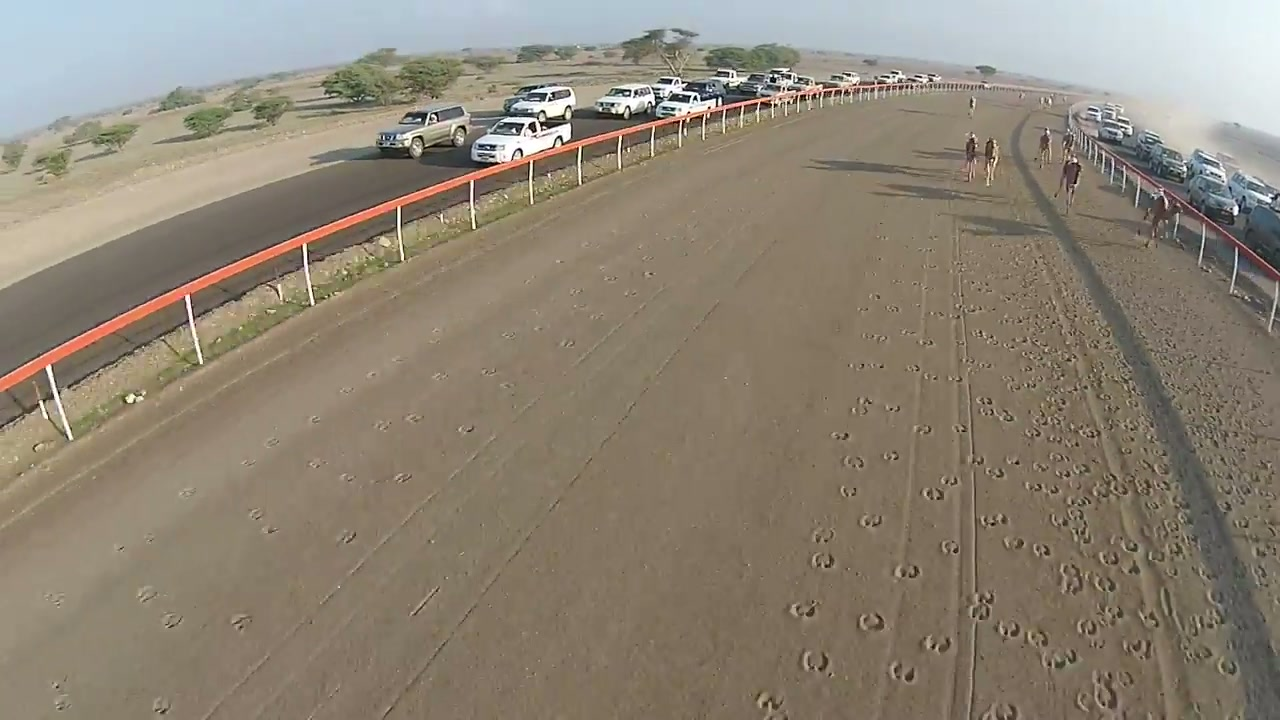animal_footprint: (1103, 473, 1169, 496), (1091, 670, 1119, 710), (409, 586, 439, 617), (755, 691, 787, 719), (1050, 506, 1086, 529), (968, 591, 994, 621), (1148, 542, 1185, 562), (1042, 649, 1078, 669), (1090, 481, 1129, 499), (981, 702, 1022, 719), (800, 650, 830, 673), (1122, 638, 1152, 660), (1194, 607, 1224, 629), (51, 680, 71, 711), (888, 661, 916, 683), (921, 635, 952, 654), (788, 600, 819, 619), (1183, 644, 1213, 662), (858, 612, 886, 631), (1024, 482, 1062, 496), (1024, 628, 1048, 649), (1140, 459, 1168, 476), (372, 472, 411, 484), (995, 621, 1021, 639), (979, 512, 1008, 528), (1076, 618, 1099, 638), (1074, 690, 1094, 712), (1094, 574, 1116, 593), (893, 564, 920, 579), (810, 553, 835, 569), (229, 613, 251, 631), (1118, 418, 1146, 432), (135, 586, 158, 603), (968, 604, 991, 621), (1217, 656, 1237, 675), (152, 696, 171, 715), (987, 337, 1017, 349), (812, 527, 834, 543), (161, 612, 182, 628), (1097, 550, 1119, 565), (972, 590, 994, 605), (859, 514, 882, 528), (940, 540, 960, 556), (841, 456, 865, 469), (1003, 536, 1025, 550), (1071, 462, 1092, 476), (337, 529, 356, 544), (1006, 382, 1034, 392), (849, 362, 884, 370), (921, 488, 944, 500), (1033, 543, 1051, 558), (1023, 480, 1045, 492), (985, 466, 1005, 479), (1078, 426, 1099, 438), (863, 332, 887, 342), (839, 485, 857, 498), (965, 454, 984, 466), (997, 410, 1016, 422), (1232, 517, 1251, 529), (939, 475, 959, 486), (392, 472, 412, 483), (973, 329, 993, 340), (882, 450, 900, 462), (373, 419, 391, 431), (259, 523, 278, 534), (1054, 468, 1073, 479), (427, 328, 440, 344), (1024, 427, 1041, 439), (830, 431, 850, 441), (248, 508, 264, 520), (339, 472, 356, 483), (1033, 461, 1050, 472), (1049, 452, 1067, 462), (913, 424, 931, 434), (307, 458, 325, 468), (850, 405, 868, 415), (179, 487, 195, 498), (264, 436, 279, 447), (457, 424, 475, 433), (143, 532, 156, 544), (952, 303, 969, 312), (560, 338, 575, 348), (916, 246, 934, 254), (432, 371, 448, 380), (481, 367, 497, 376), (922, 372, 938, 381), (975, 361, 993, 369), (917, 338, 934, 346), (975, 397, 992, 405), (952, 424, 967, 433), (499, 381, 514, 390), (947, 374, 962, 383), (589, 312, 604, 321), (884, 404, 900, 412), (905, 364, 920, 372), (501, 331, 516, 339), (885, 304, 900, 312), (604, 275, 619, 283), (308, 415, 321, 424), (241, 458, 255, 466), (339, 386, 353, 394), (113, 543, 125, 552), (391, 356, 406, 363), (624, 289, 637, 297), (580, 241, 594, 248), (431, 327, 443, 335), (643, 270, 655, 278), (913, 283, 929, 289), (568, 288, 581, 295), (641, 255, 654, 262), (857, 306, 870, 312), (868, 293, 880, 299), (534, 325, 543, 331), (681, 253, 687, 257)
